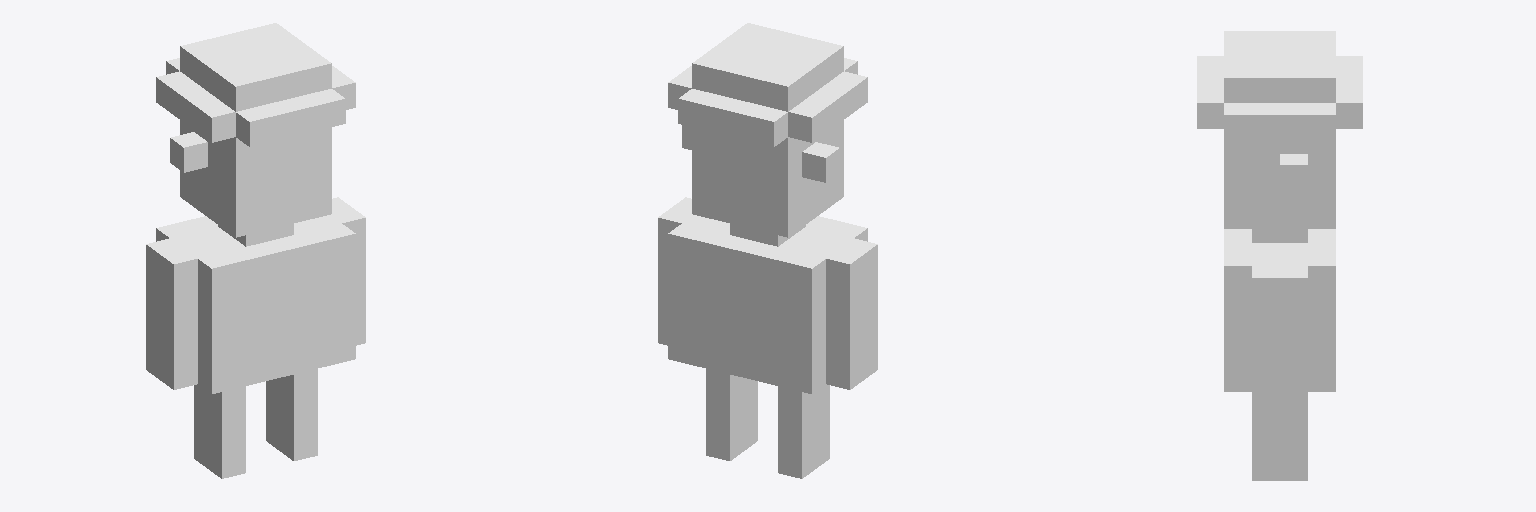
The model's file is Enemy3.obj.
The picture shows the model from 3 angles: view 1: azimuth 30°, elevation 25°; view 2: azimuth 150°, elevation 25°; view 3: azimuth 270°, elevation 25°; orthographic projection.
Parts seen in each view (by area): view 1: object 1; view 2: object 1; view 3: object 1.
Part boxes in pixels (bbox=[...]): object 1: bbox=[146, 23, 365, 478]; object 1: bbox=[658, 23, 877, 478]; object 1: bbox=[1197, 31, 1362, 480].
Size of the model in its own units: 0.8 by 1.6 by 0.6.